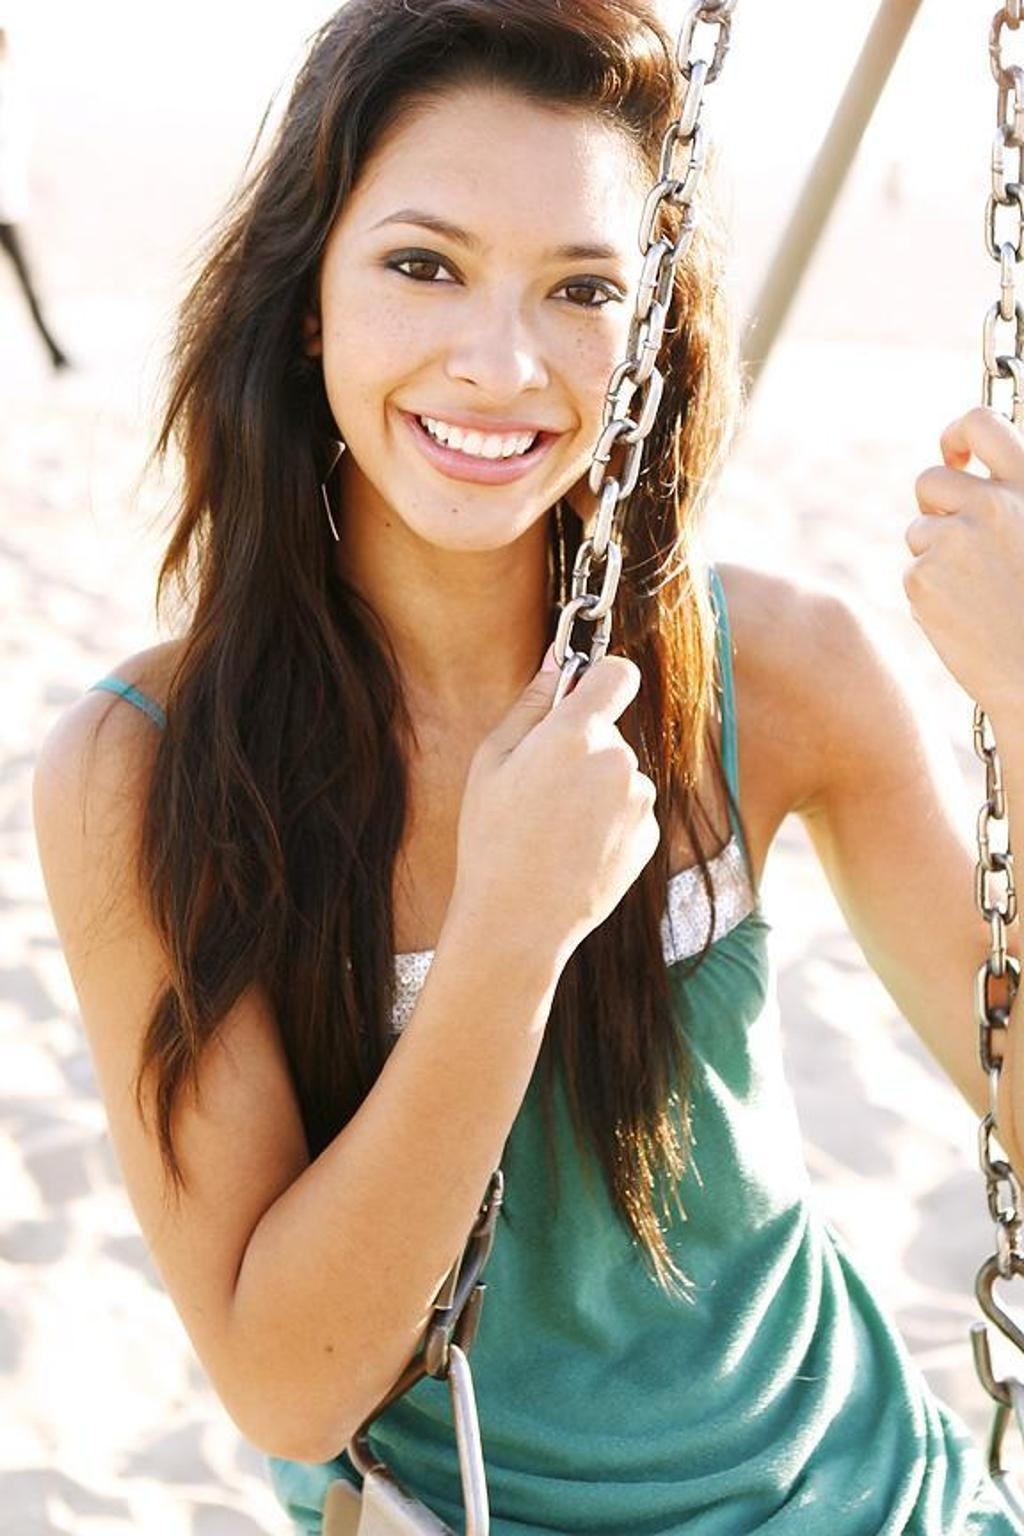face: (322, 94, 661, 559)
